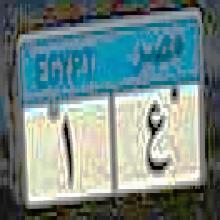1: (60, 111, 76, 192)
ain: (145, 98, 170, 184)
